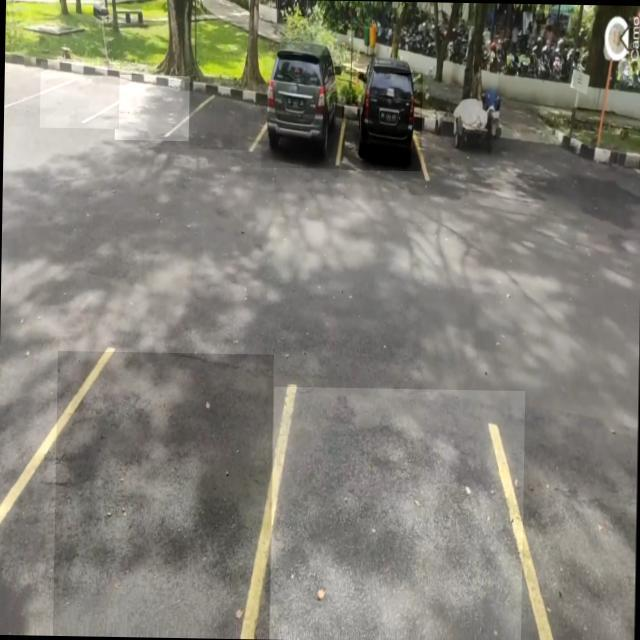empty: (269, 386, 524, 640), (53, 350, 273, 640), (188, 76, 262, 150), (40, 61, 120, 129), (114, 74, 189, 140)
occupied: (260, 54, 342, 168), (340, 71, 422, 171)
